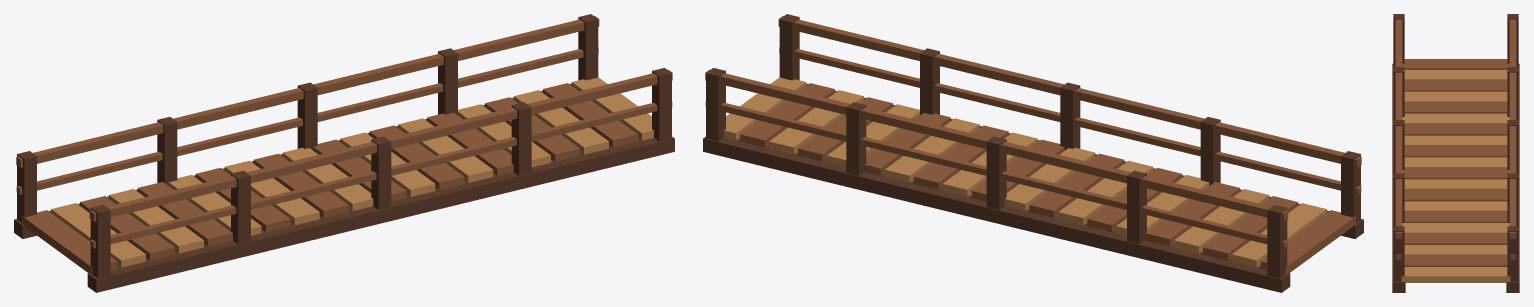
File: CA_Puente_Madera.obj
3 views of the same model, side by side, from view 1: azimuth 30°, elevation 25°; view 2: azimuth 150°, elevation 25°; view 3: azimuth 270°, elevation 25° (orthographic). The views are drawn at different scales.
Parts seen in each view (by area): view 1: CA_Puente_Madera; view 2: CA_Puente_Madera; view 3: CA_Puente_Madera.
Boxes of the visible parts, x1=… form: CA_Puente_Madera: x1=14, y1=14, x2=674, y2=292; CA_Puente_Madera: x1=703, y1=14, x2=1363, y2=292; CA_Puente_Madera: x1=1392, y1=14, x2=1519, y2=292.
Size of the model in its own units: 10 by 1.3 by 2.46.
